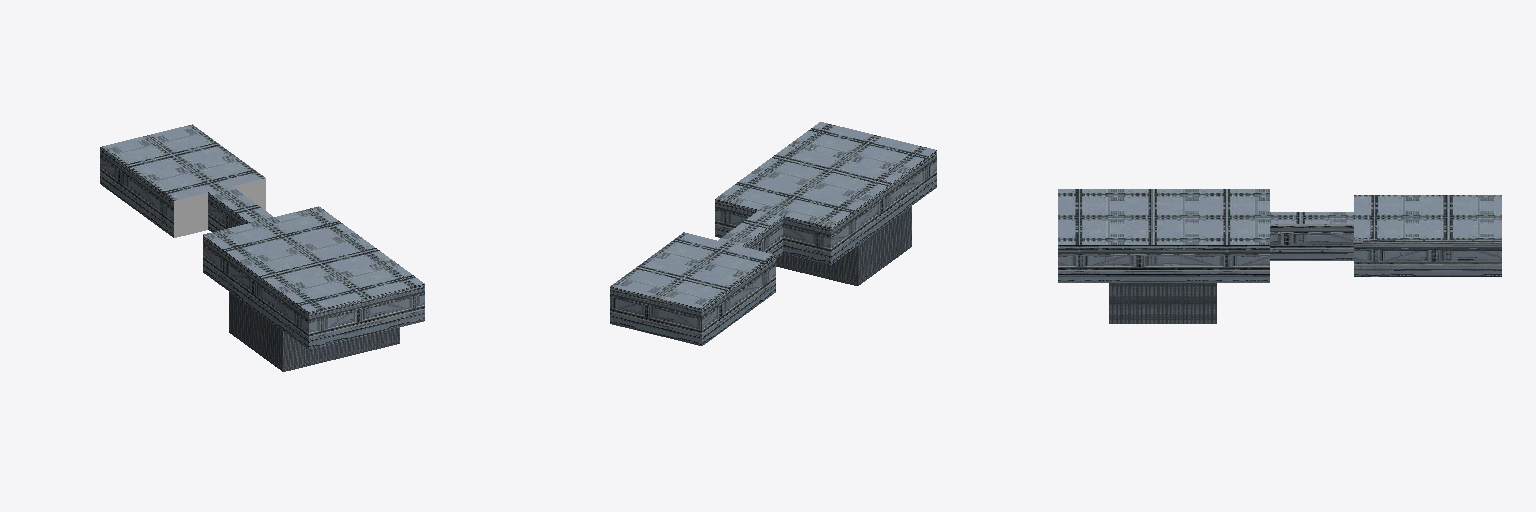
3 views of the same model, side by side, from view 1: azimuth 30°, elevation 25°; view 2: azimuth 150°, elevation 25°; view 3: azimuth 270°, elevation 25° (orthographic).
Visible parts, largest first — view 1: Box1; view 2: Box1; view 3: Box1.
Boxes of the visible parts, <box> form: Box1: <box>100,124,424,371</box>; Box1: <box>610,122,936,345</box>; Box1: <box>1058,189,1501,323</box>.
Size of the model in its own units: 3.26 by 2.11 by 10.73.
Materials: 6 (5 with a texture image).